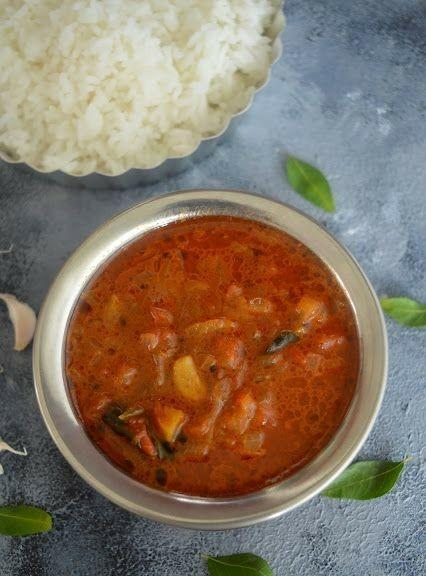RajmaCurry: (63, 211, 360, 501)
